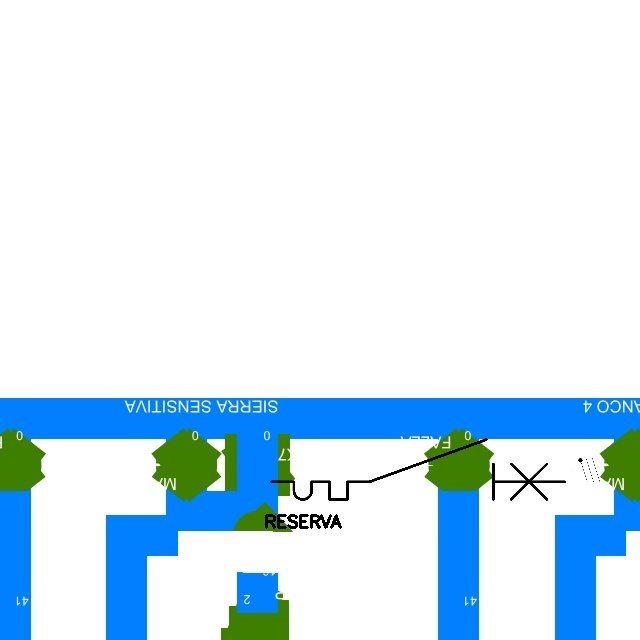interruptor_termomagnetico: (264, 432, 572, 507)
